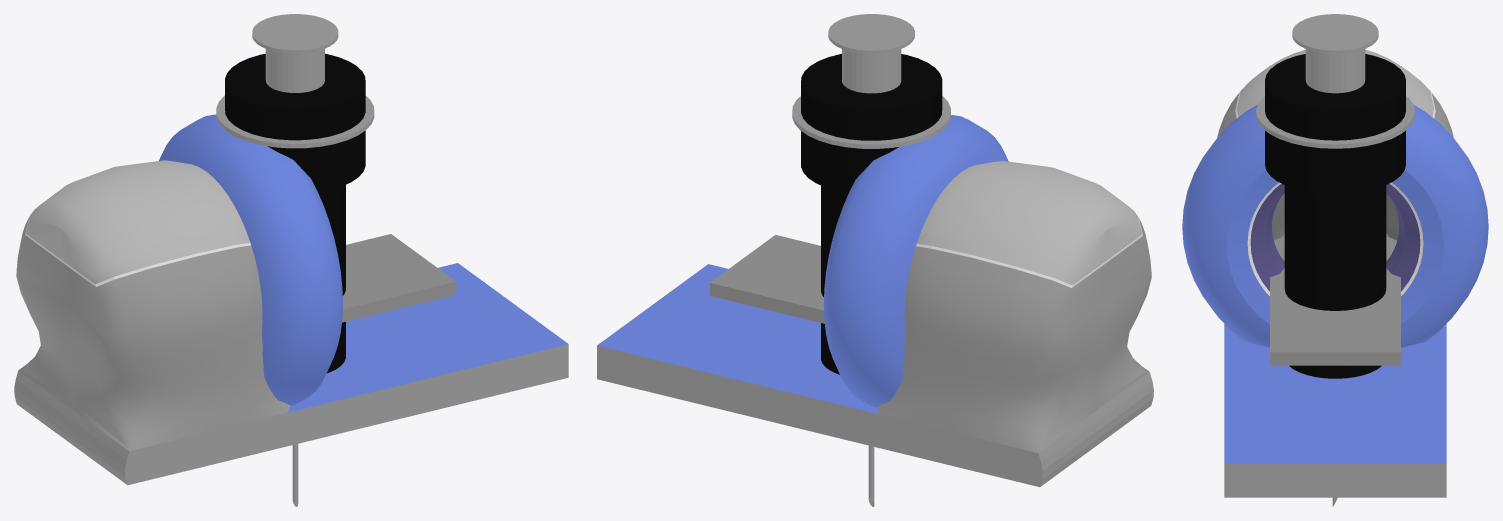
File: roadsigns.glb
3 views of the same model, side by side, from view 1: azimuth 30°, elevation 25°; view 2: azimuth 150°, elevation 25°; view 3: azimuth 270°, elevation 25° (orthographic).
Parts seen in each view (by area): view 1: Scan, BloodTest, Injection; view 2: Scan, BloodTest, Injection; view 3: Scan, BloodTest, Injection.
Part boxes in pixels (box(x1,y1,x2,y2)): Scan: box(14, 114, 568, 485); BloodTest: box(225, 53, 365, 373); Injection: box(216, 14, 374, 506); Scan: box(597, 115, 1153, 487); BloodTest: box(801, 54, 942, 374); Injection: box(792, 14, 950, 506); Scan: box(1182, 50, 1488, 497); BloodTest: box(1265, 54, 1405, 378); Injection: box(1256, 14, 1414, 506).
Size of the model in its own units: 4.73 by 4.71 by 2.76.
